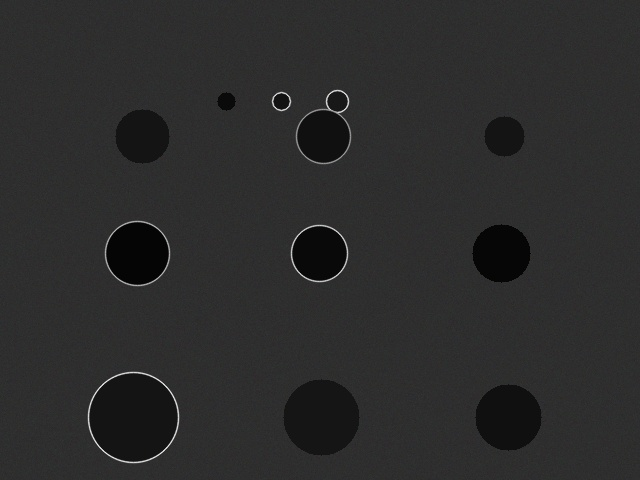hole: (88, 372, 178, 462), (283, 379, 359, 455), (475, 384, 541, 450), (105, 221, 169, 285), (472, 224, 530, 282), (291, 225, 347, 281), (115, 109, 169, 163), (296, 109, 350, 163), (484, 116, 524, 156), (326, 90, 348, 112), (217, 92, 235, 110), (272, 92, 290, 110)
